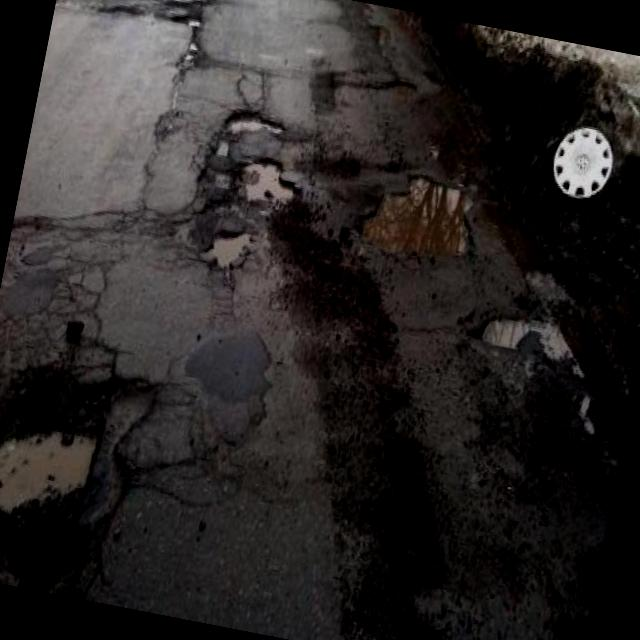pothole: (0, 345, 121, 540), (352, 162, 484, 271), (238, 147, 304, 211), (476, 303, 536, 357), (200, 218, 256, 273), (225, 102, 290, 146)
